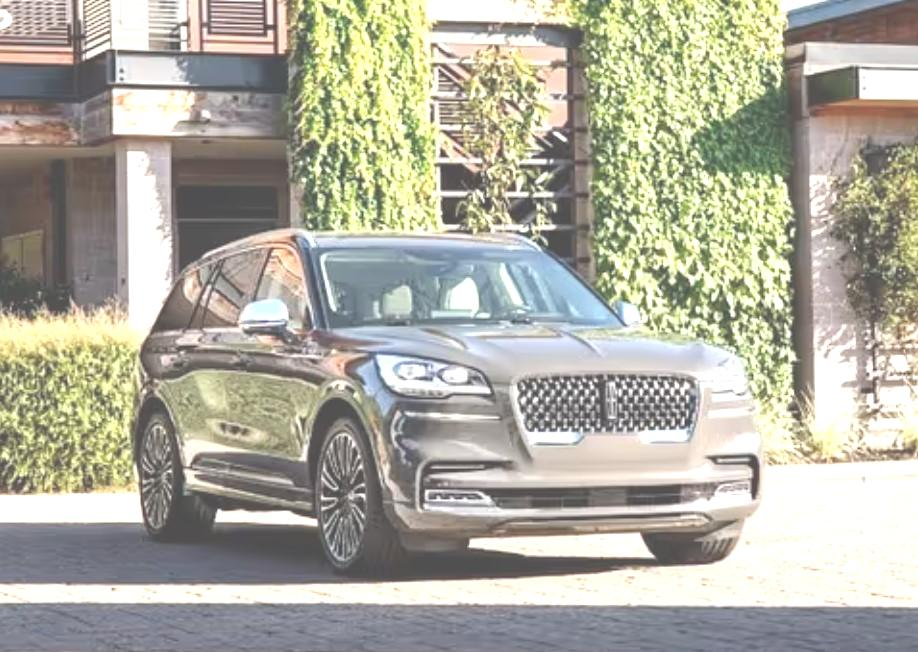lincoln: (598, 370, 627, 432)
